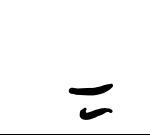eqv: (69, 83, 113, 120)
